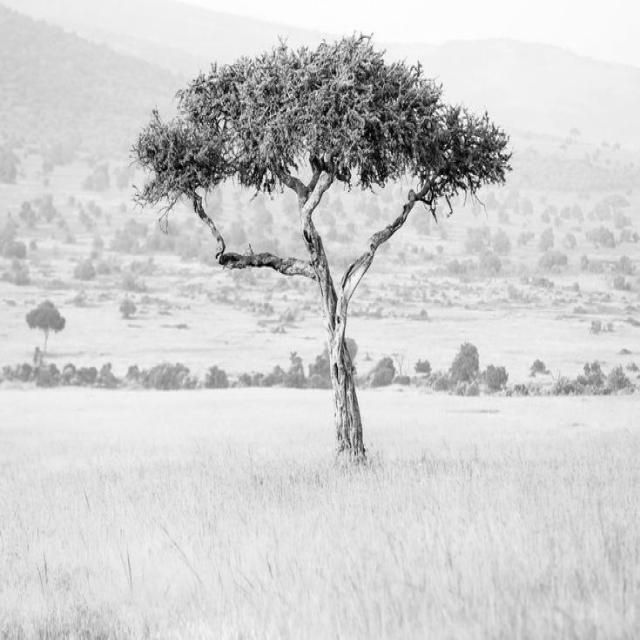Acacia: (140, 31, 499, 473)
